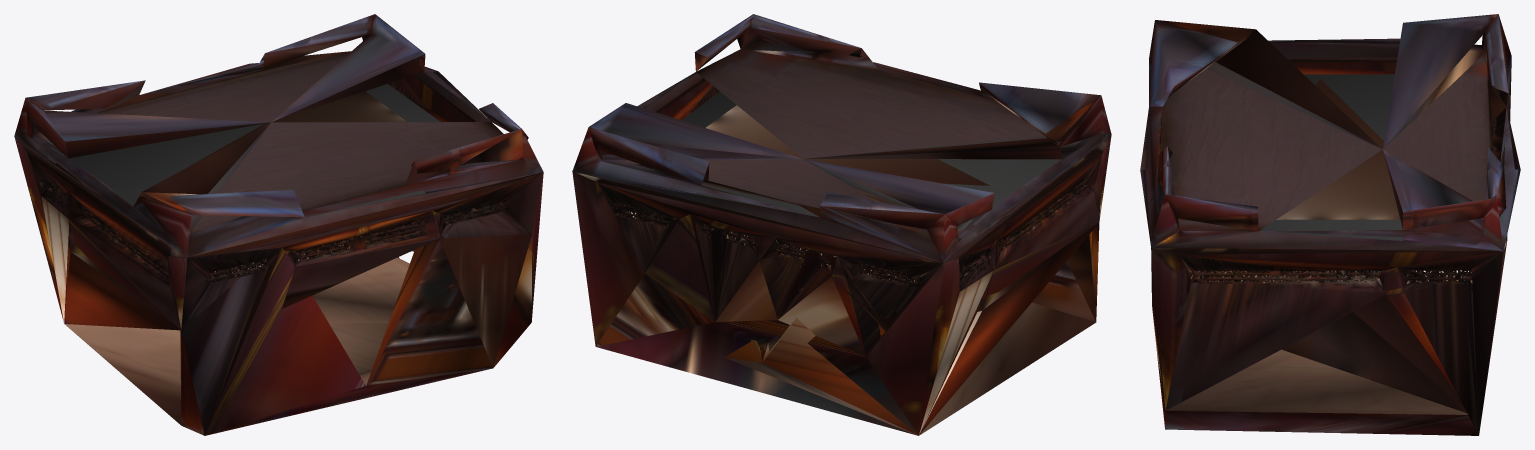
File: CorrectedRoom_LOD2.fbx
3 renders of one model, left to right at view 1: azimuth 30°, elevation 25°; view 2: azimuth 150°, elevation 25°; view 3: azimuth 270°, elevation 25°, orthographic. The views are drawn at different scales.
Visible parts, largest first — view 1: CorrectedRoom_LOD2; view 2: CorrectedRoom_LOD2; view 3: CorrectedRoom_LOD2.
Part boxes in pixels (x1,y1,x2,y2): CorrectedRoom_LOD2: (14, 14, 543, 435); CorrectedRoom_LOD2: (572, 14, 1111, 435); CorrectedRoom_LOD2: (1140, 14, 1520, 435).
Size of the model in its own units: 7.27 by 4.21 by 5.78.
Materials: 1 (1 with a texture image).
